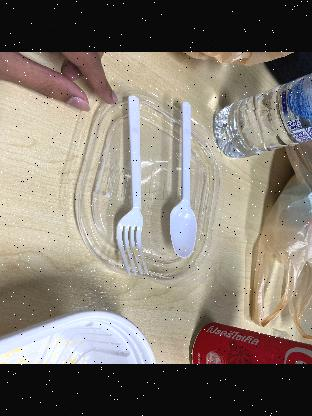Others: (112, 93, 148, 281), (165, 96, 199, 264)
